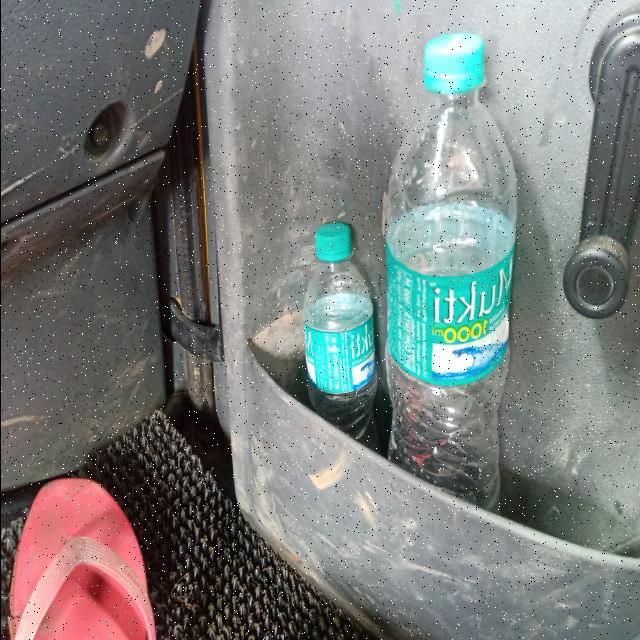plastic: (374, 31, 520, 594), (304, 218, 377, 476)
